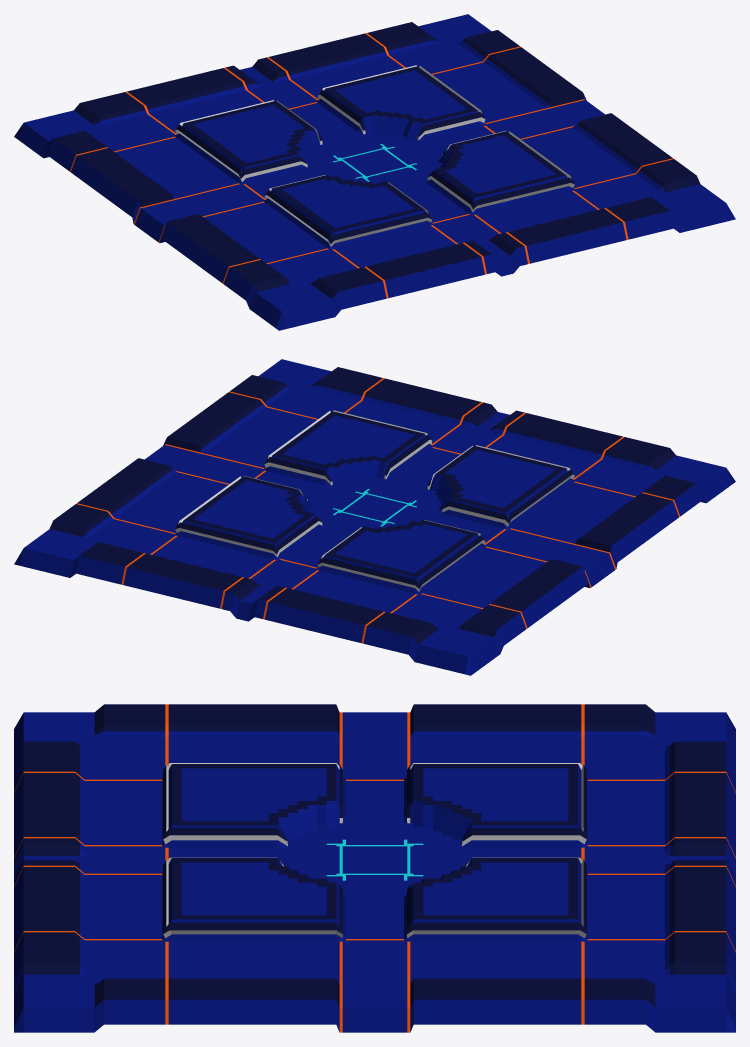
Rendered from Level18B1.fbx.
3 views of the same model, one above another, from view 1: azimuth 30°, elevation 25°; view 2: azimuth 150°, elevation 25°; view 3: azimuth 270°, elevation 25° (orthographic). The views are drawn at different scales.
Visible parts, largest first — view 1: Plane; view 2: Plane; view 3: Plane.
Part boxes in pixels (box(x1,y1,x2,y2)): Plane: box(14, 14, 735, 330); Plane: box(14, 359, 735, 675); Plane: box(14, 704, 735, 1032).
Size of the model in its own units: 1109 by 66.62 by 1115.
